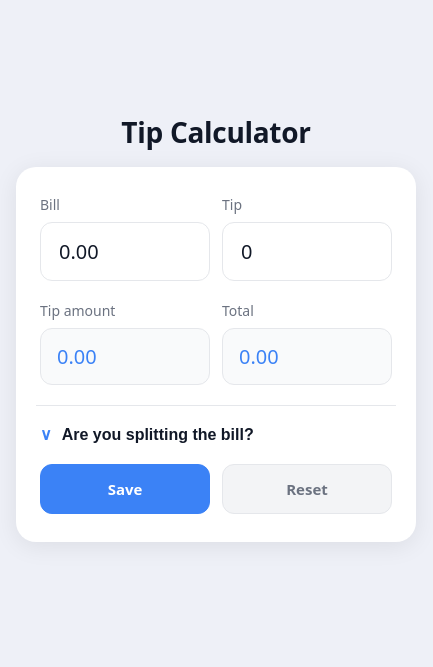
Test case: App – split section toggle › clicking toggle again hides the section
The width and height of the screenshot is (433, 667).
Click the text "Are you splitting the bill?": (158, 434) [62,426,254,444]
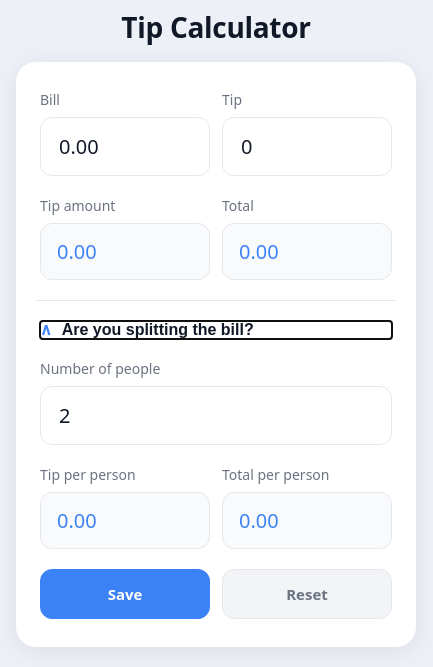
Click the text "Are you splitting the bill?": (158, 330) [62,320,254,338]
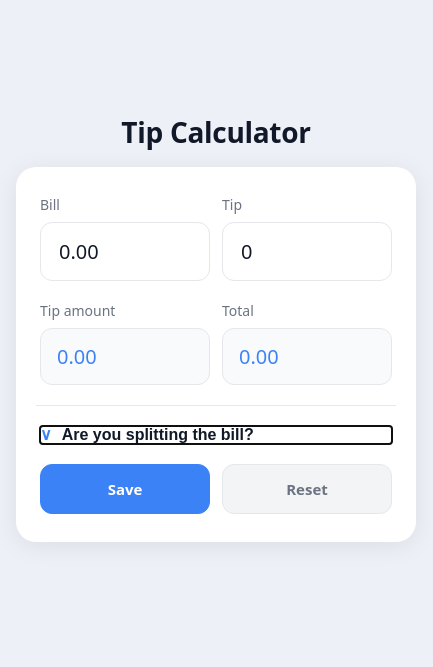
Now the text "Number of people" is gone
